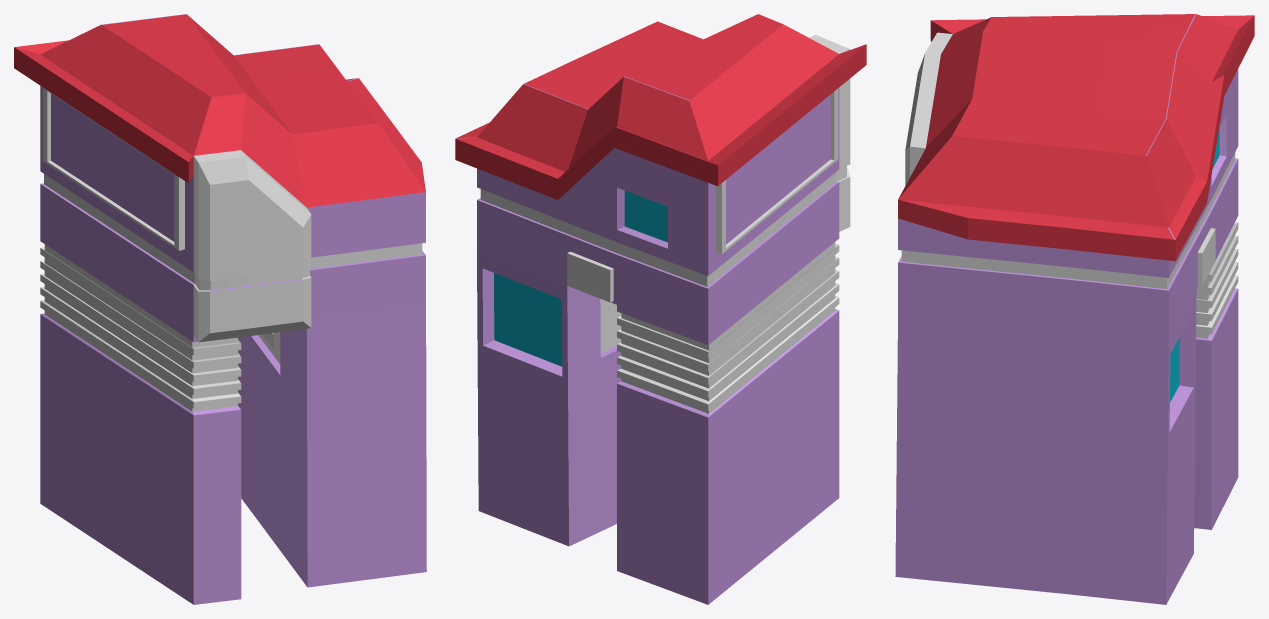
Rendered from FBX_SD_sBillboardbuilding.fbx.
The picture shows the model from 3 angles, left to right: view 1: azimuth 30°, elevation 25°; view 2: azimuth 150°, elevation 25°; view 3: azimuth 270°, elevation 25°; orthographic projection.
Parts seen in each view (by area): view 1: FBX_SD_sBillboardbuilding; view 2: FBX_SD_sBillboardbuilding; view 3: FBX_SD_sBillboardbuilding.
Boxes of the visible parts, left/top/right/bottom form: FBX_SD_sBillboardbuilding: left=14, top=14, right=426, bottom=604; FBX_SD_sBillboardbuilding: left=455, top=14, right=866, bottom=604; FBX_SD_sBillboardbuilding: left=895, top=14, right=1254, bottom=604.
Size of the model in its own units: 2815 by 4287 by 2877.
